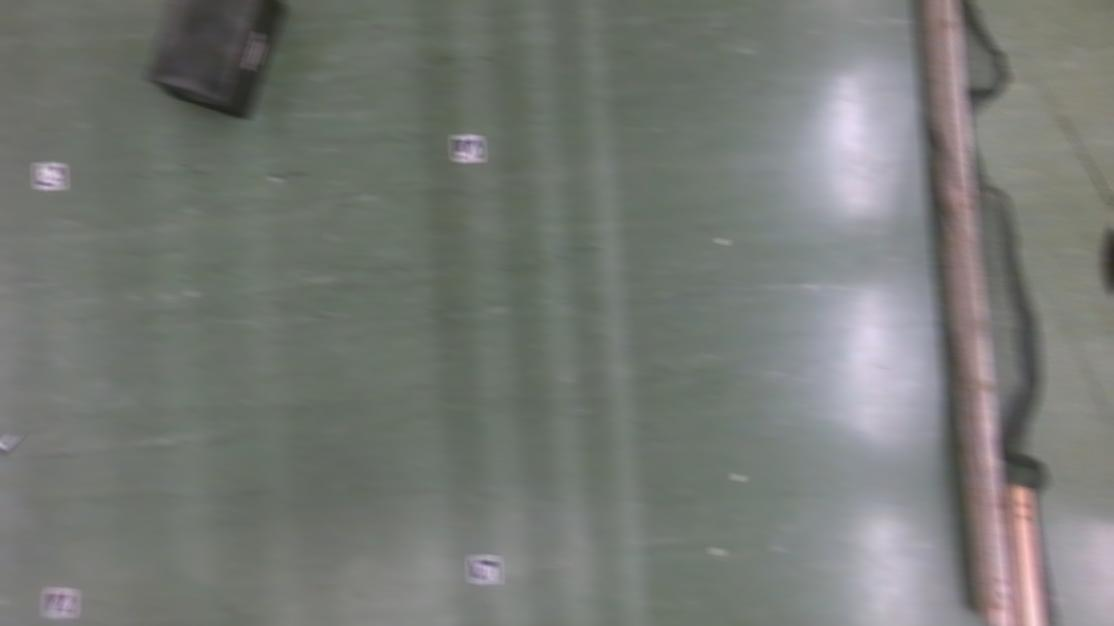probes: (0, 431, 20, 465)
rako: (145, 0, 289, 121)
